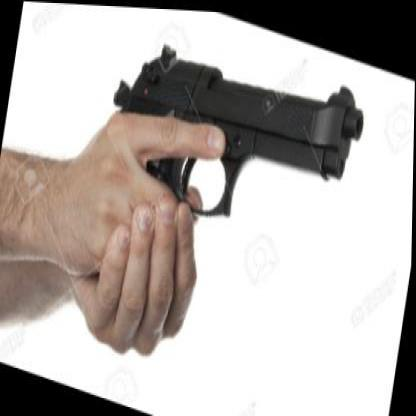pistol: (93, 5, 369, 270)
